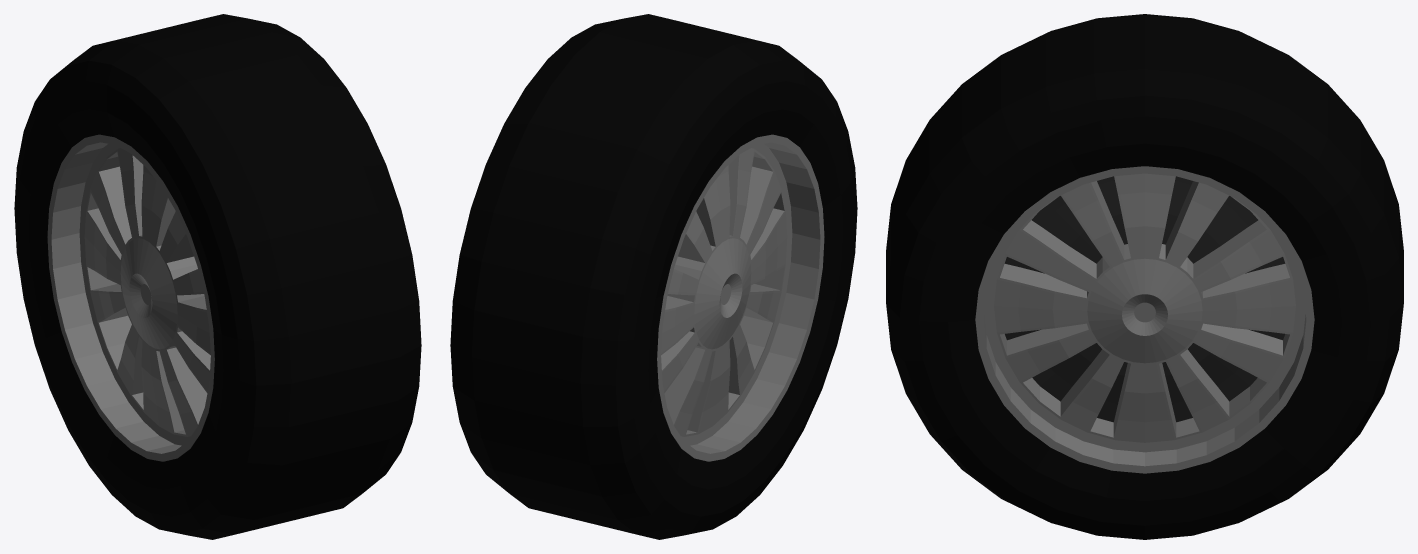
The model's file is AIwheel.fbx.
The picture shows the model from 3 angles, left to right: view 1: azimuth 30°, elevation 25°; view 2: azimuth 150°, elevation 25°; view 3: azimuth 270°, elevation 25°; orthographic projection.
Parts seen in each view (by area): view 1: AIwheel; view 2: AIwheel; view 3: AIwheel.
Boxes of the visible parts, x1=… form: AIwheel: x1=14, y1=14, x2=421, y2=539; AIwheel: x1=450, y1=14, x2=857, y2=539; AIwheel: x1=886, y1=14, x2=1403, y2=539.
Bounding box in the file's own units: 0.8286 × 2 × 2.
